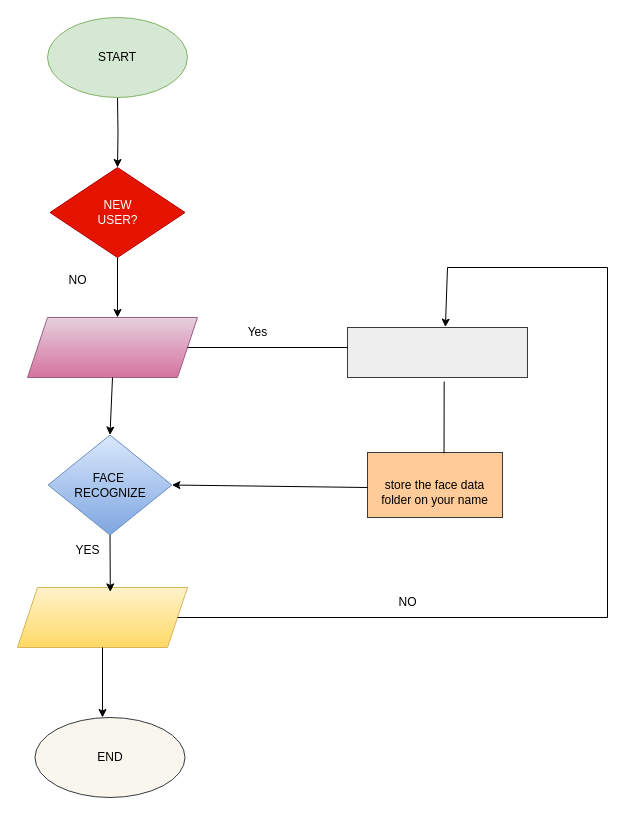
Image size: 626x815. Some labels were removed from this diagram. The shapes that lost their labels are listed below. From the top down, each one's box as (x1, y1, x2, y2) in pixels, then its label:
(26, 316, 198, 378): RECOGNIZE THE FACE
(346, 326, 528, 378): GIVE YOUR PARAGRAPH
(16, 586, 188, 648): stored in csv file with registration number & date time of entry
